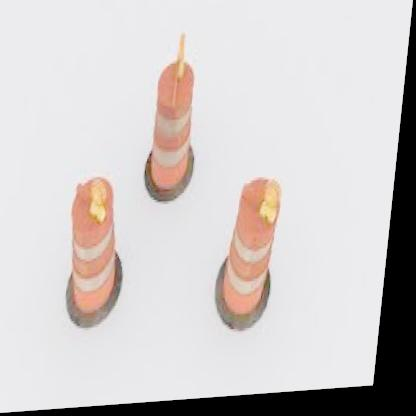obstacle: (225, 178, 294, 325), (64, 178, 130, 327), (149, 52, 201, 201)
